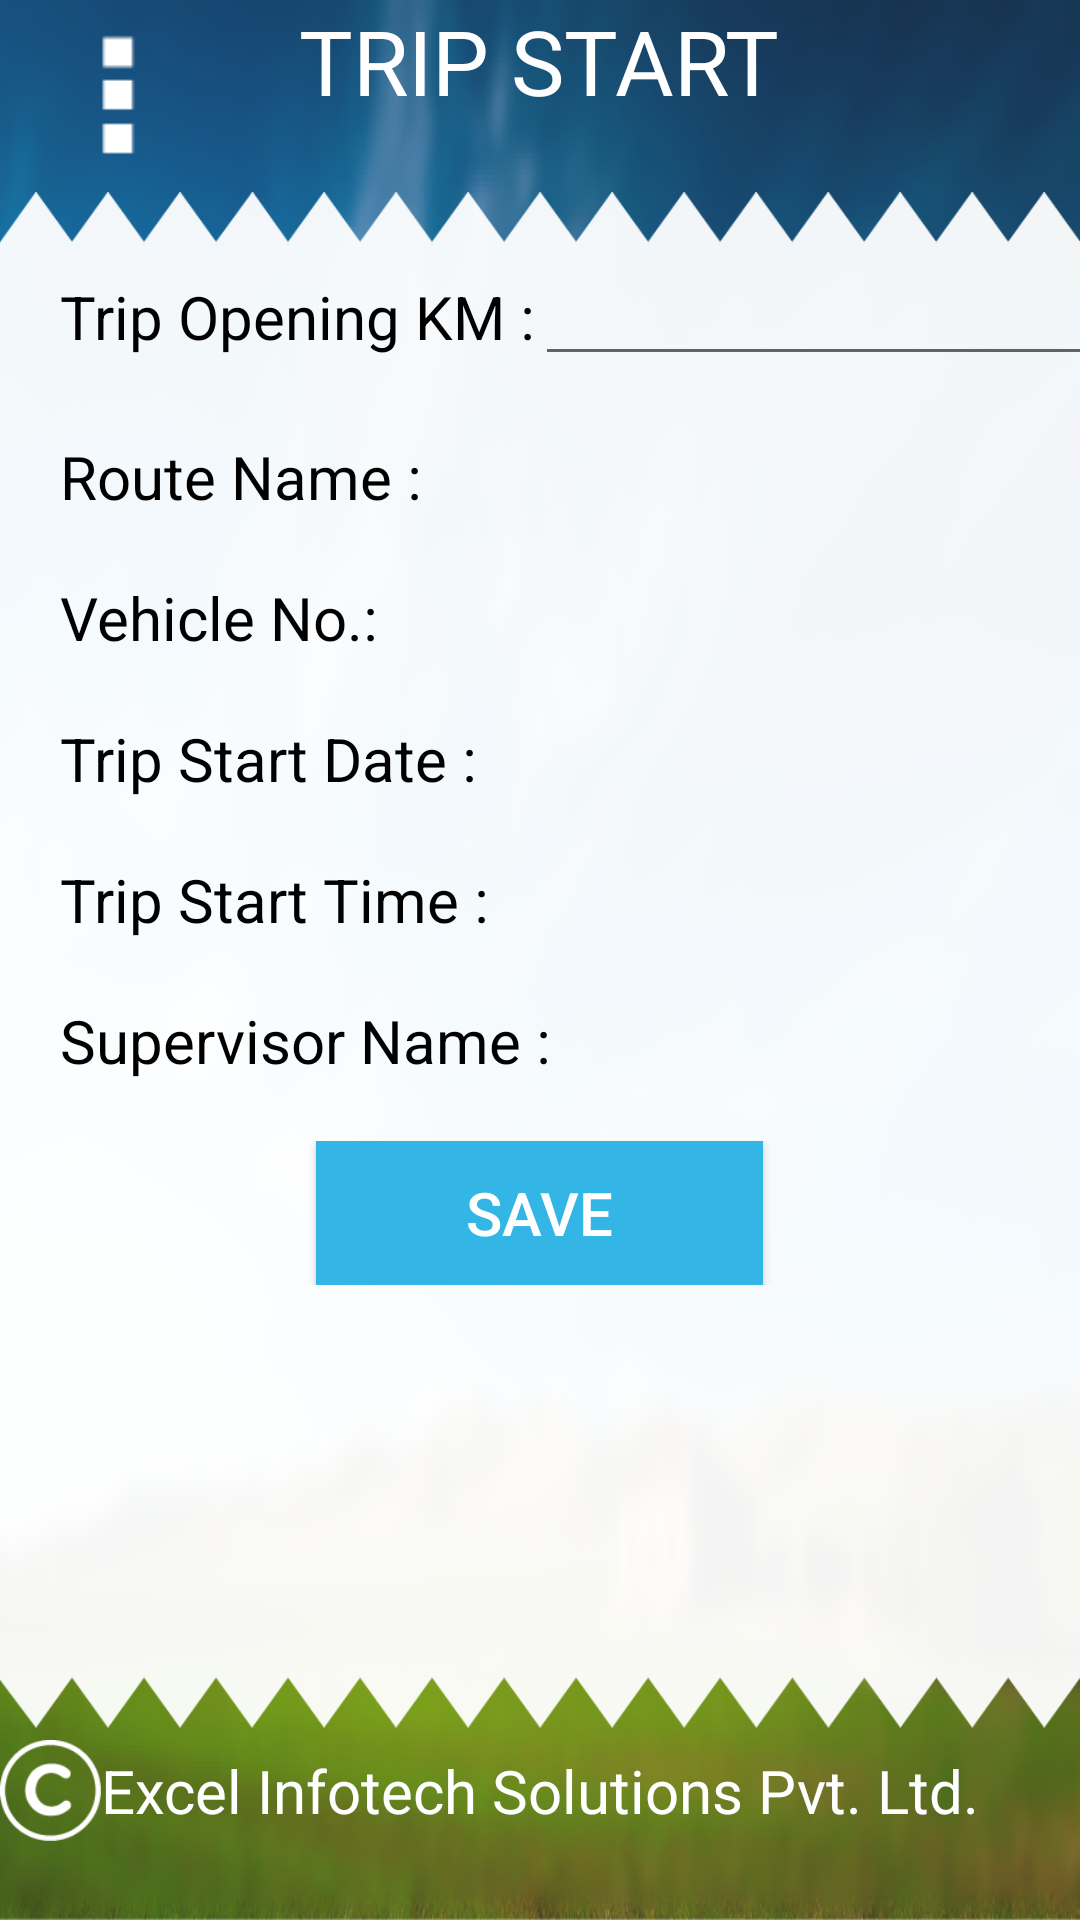

Locate icon controls on the screen. Image size 1080w x 1920h, boxes as (x1,y1,x2,y2).
copyright: (0,1728,101,1841)
menu: (0,0,237,192)
